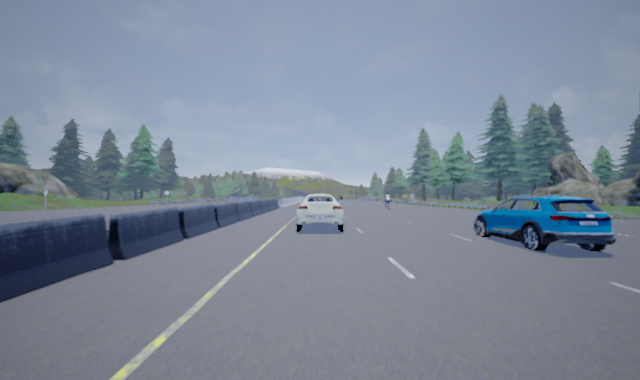bike: (384, 191, 393, 212)
vehicle: (474, 193, 616, 253), (295, 193, 345, 232)
